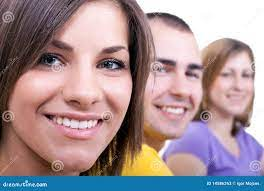face: (36, 35, 132, 148), (146, 51, 198, 123), (219, 65, 253, 113)
